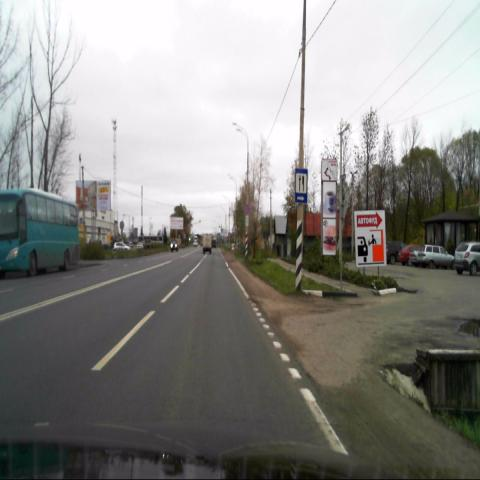7_7: (294, 169, 308, 205)
